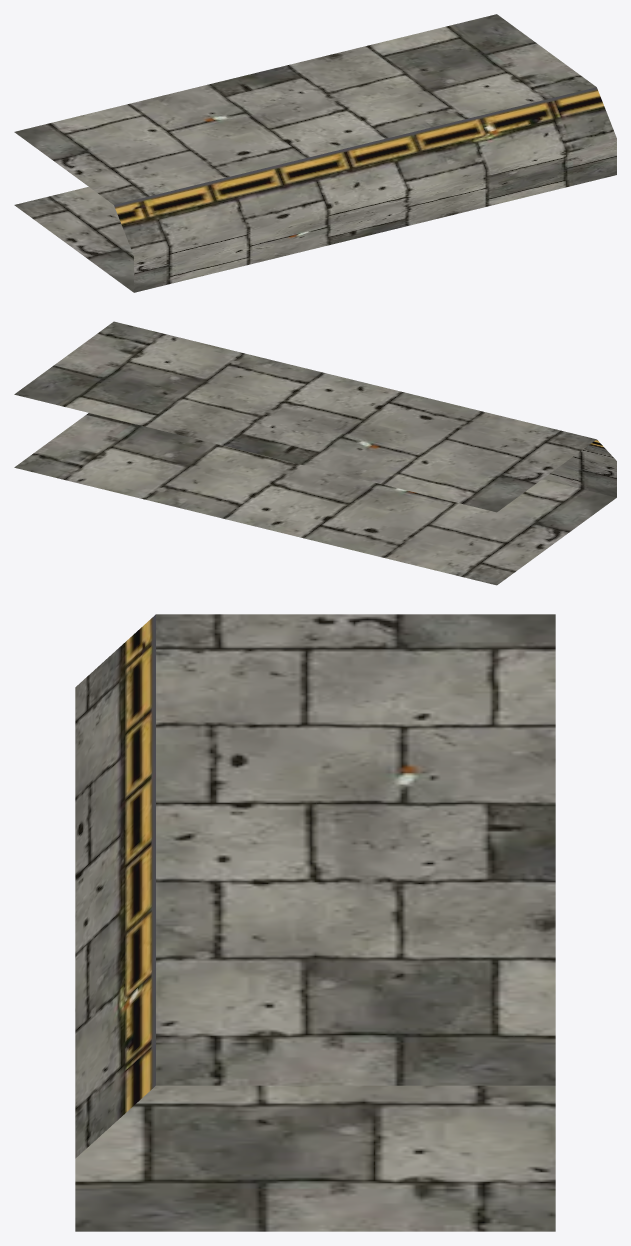
File: sidewalk.glb
3 renders of one model, top to bottom at view 1: azimuth 30°, elevation 25°; view 2: azimuth 150°, elevation 25°; view 3: azimuth 270°, elevation 25°, orthographic. The views are drawn at different scales.
Parts seen in each view (by area): view 1: Sidewalk; view 2: Sidewalk; view 3: Sidewalk.
Part boxes in pixels (<box>): Sidewalk: <box>14,14,616,292</box>; Sidewalk: <box>14,321,616,585</box>; Sidewalk: <box>75,614,555,1231</box>.
Size of the model in its own units: 2.27 by 0.3286 by 0.9787.
1 material, 1 textured.
